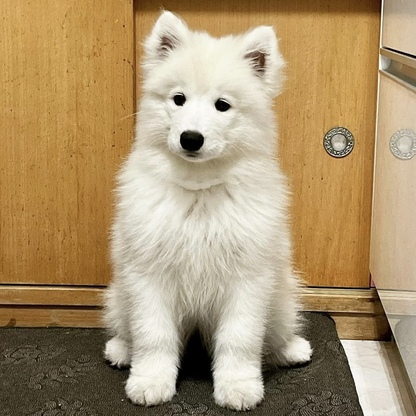samoyed: (96, 1, 321, 416)
